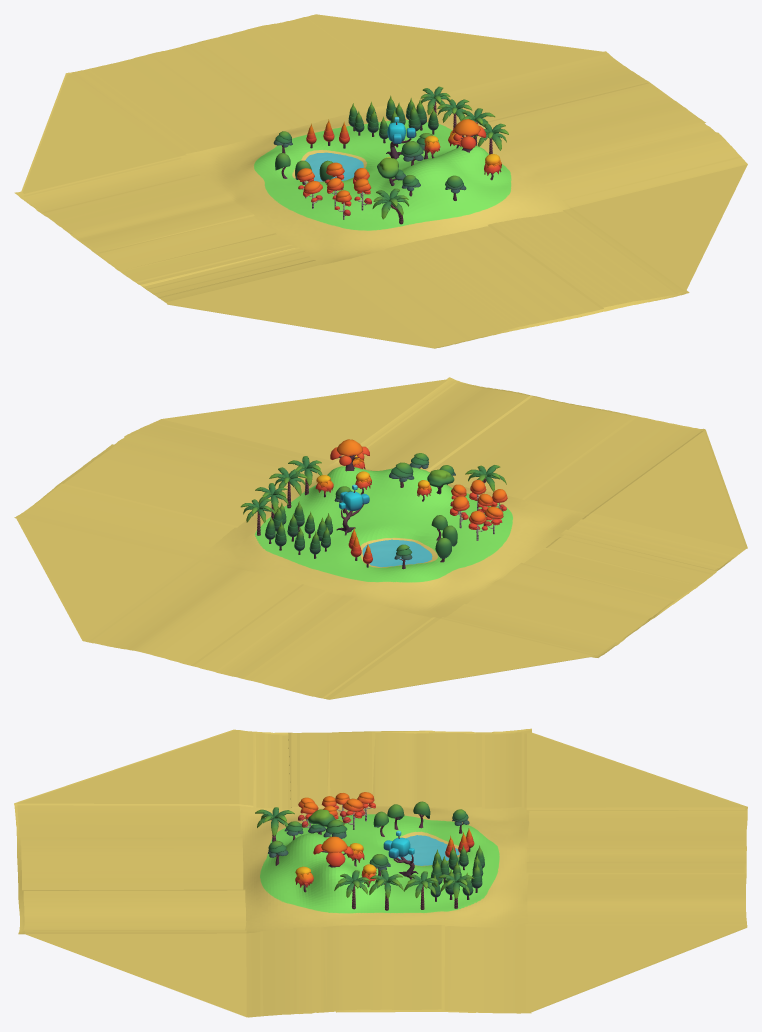
The model's file is greenary-draco.glb.
The picture shows the model from 3 angles, top to bottom: view 1: azimuth 30°, elevation 25°; view 2: azimuth 150°, elevation 25°; view 3: azimuth 270°, elevation 25°; orthographic projection. The views are drawn at different scales.
Parts seen in each view (by area): view 1: Terrain, Trees, Lake; view 2: Terrain, Trees, Lake; view 3: Terrain, Trees, Lake.
Part boxes in pixels (box(x1,y1,x2,y2)): Terrain: box(14, 14, 747, 348); Trees: box(273, 86, 508, 224); Lake: box(305, 152, 363, 181); Terrain: box(14, 377, 747, 699); Trees: box(240, 439, 507, 569); Lake: box(362, 539, 432, 567); Terrain: box(14, 728, 747, 1017); Trees: box(255, 792, 484, 910); Lake: box(397, 835, 459, 865).
Size of what is drawn, in the model's own units: 245 by 27.95 by 269.
Materials: 13 (12 with a texture image).
